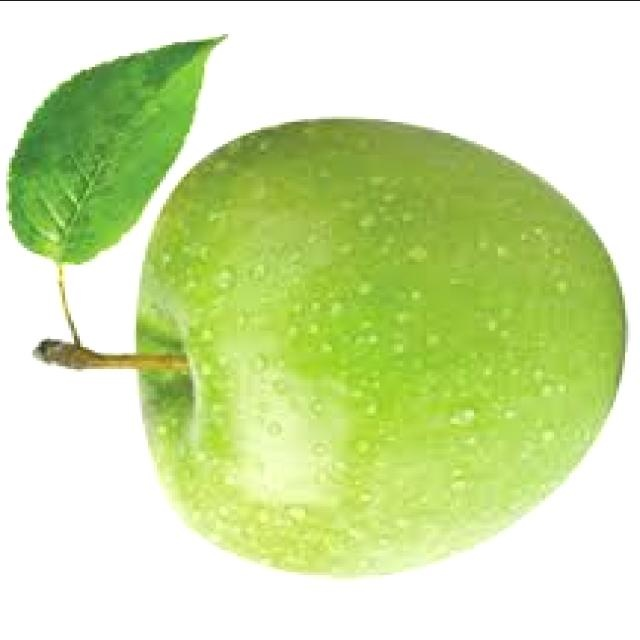agrume: (28, 91, 640, 588)
